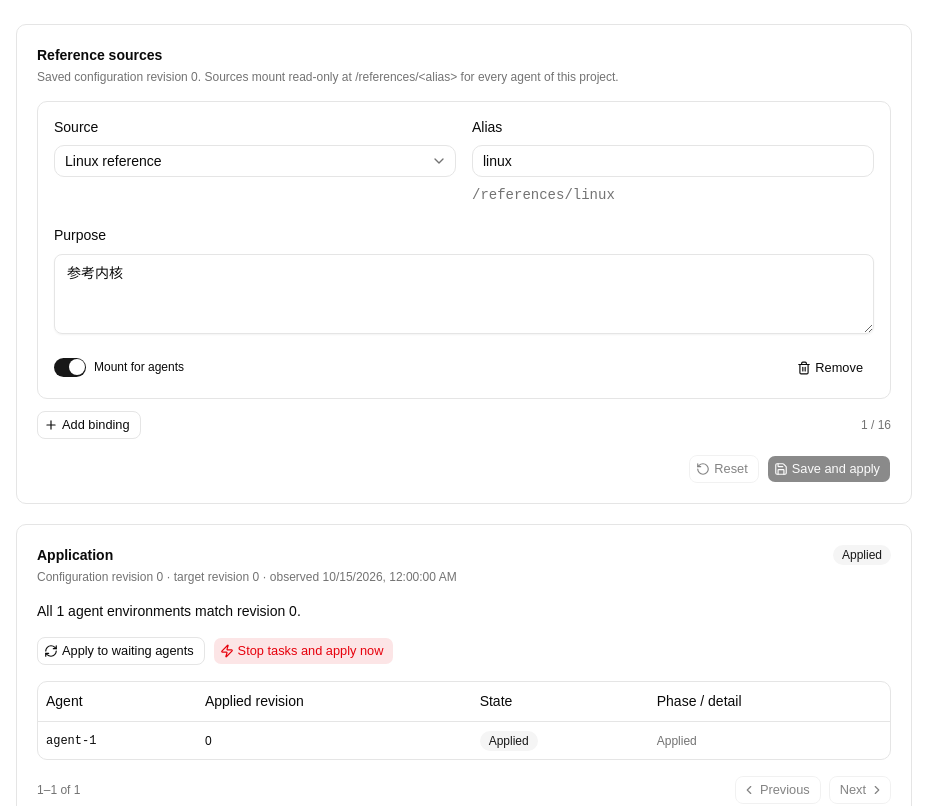
Test case: project references panel › refuses to save a duplicate source binding the server would reject
Expected: the field labelled "Alias" is shown, [472,145,874,177]
Click the button "Add binding": (89, 424) [37,410,141,438]
(page scrolled)
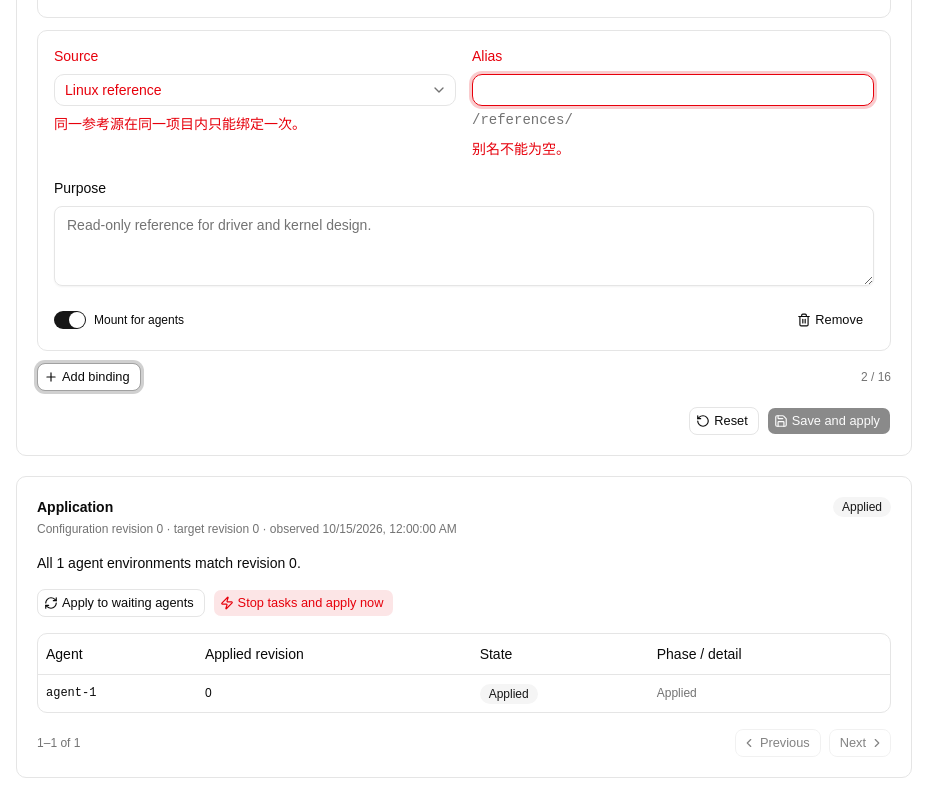
Expected: the button "Save and apply" is disabled, [767,407,891,435]
Result: the text "同一参考源在同一项目内只能绑定一次。" is shown 2 times
